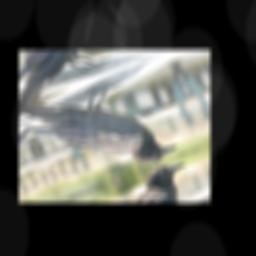Crow: (20, 61, 182, 200)
